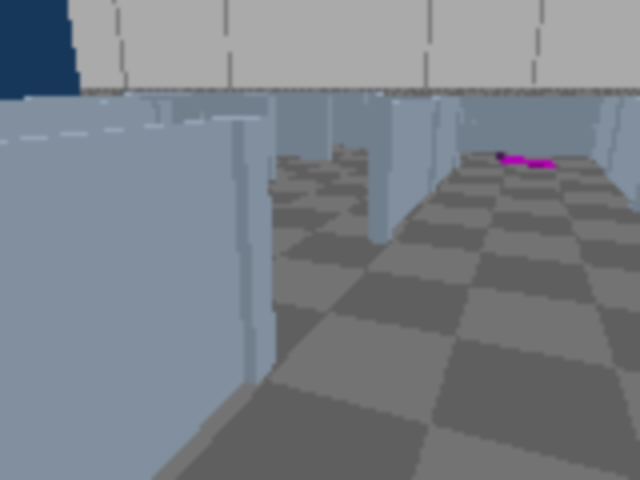goal_zone: (499, 157, 555, 167)
